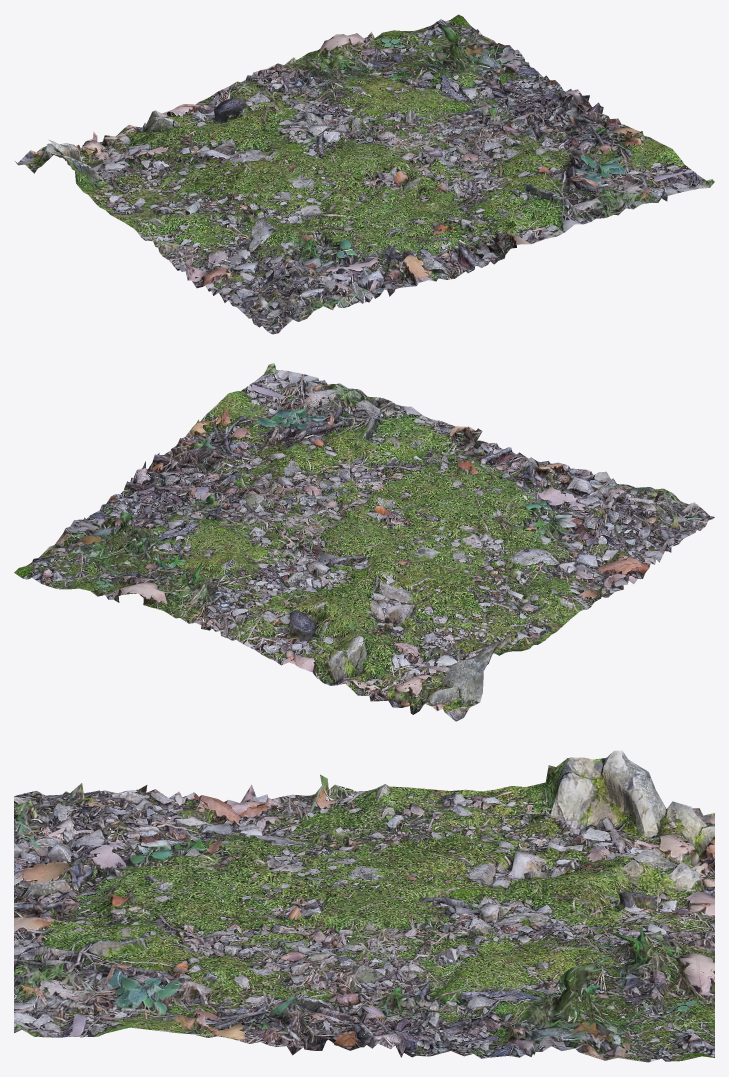
File: moss.glb
3 renders of one model, top to bottom at view 1: azimuth 30°, elevation 25°; view 2: azimuth 150°, elevation 25°; view 3: azimuth 270°, elevation 25°, orthographic. The views are drawn at different scales.
Visible parts, largest first — view 1: ground_moss_1-10k; view 2: ground_moss_1-10k; view 3: ground_moss_1-10k.
Boxes of the visible parts, x1,y1,x2,y2 form: ground_moss_1-10k: (15,14,714,334); ground_moss_1-10k: (14,363,714,721); ground_moss_1-10k: (14,750,714,1062).
Size of the model in its own units: 0.9588 by 0.1768 by 0.9588.
Materials: 1 (1 with a texture image).
